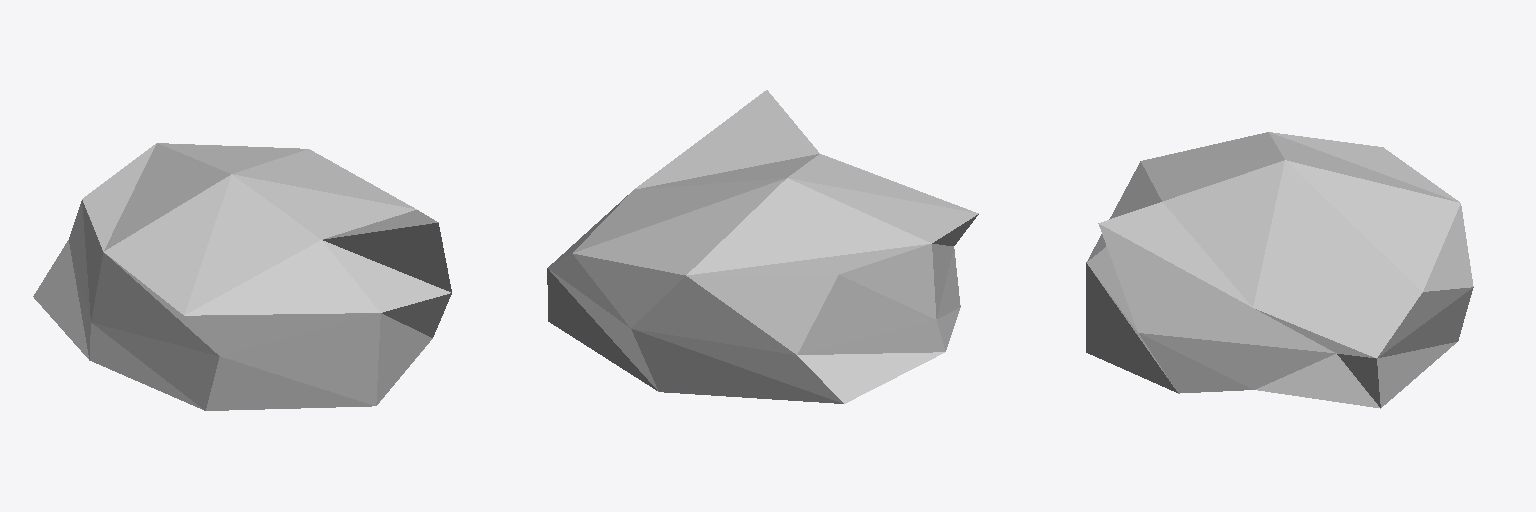
Rendered from rock2.obj.
3 renders of one model, left to right at view 1: azimuth 30°, elevation 25°; view 2: azimuth 150°, elevation 25°; view 3: azimuth 270°, elevation 25°, orthographic.
Visible parts, largest first — view 1: Cube; view 2: Cube; view 3: Cube.
Part boxes in pixels (bbox=[...]): Cube: bbox=[33, 143, 451, 410]; Cube: bbox=[547, 90, 978, 403]; Cube: bbox=[1086, 132, 1473, 408].
Bounding box in the file's own units: 2.53 × 1.2 × 2.46.